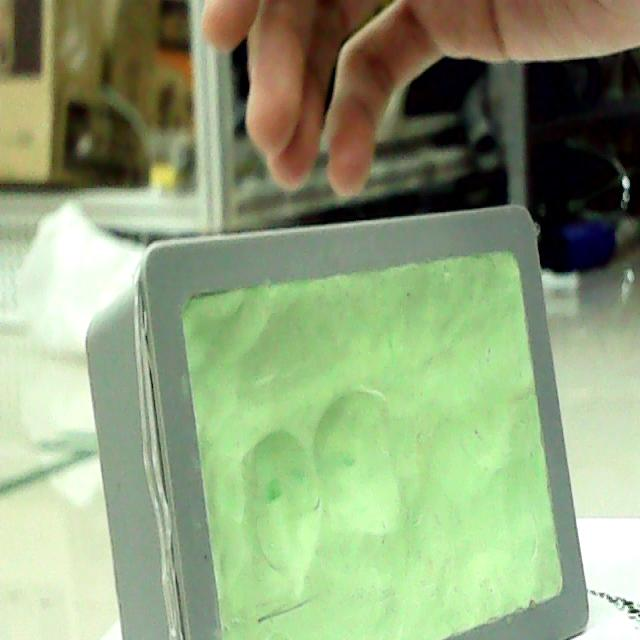block: (80, 201, 593, 640)
